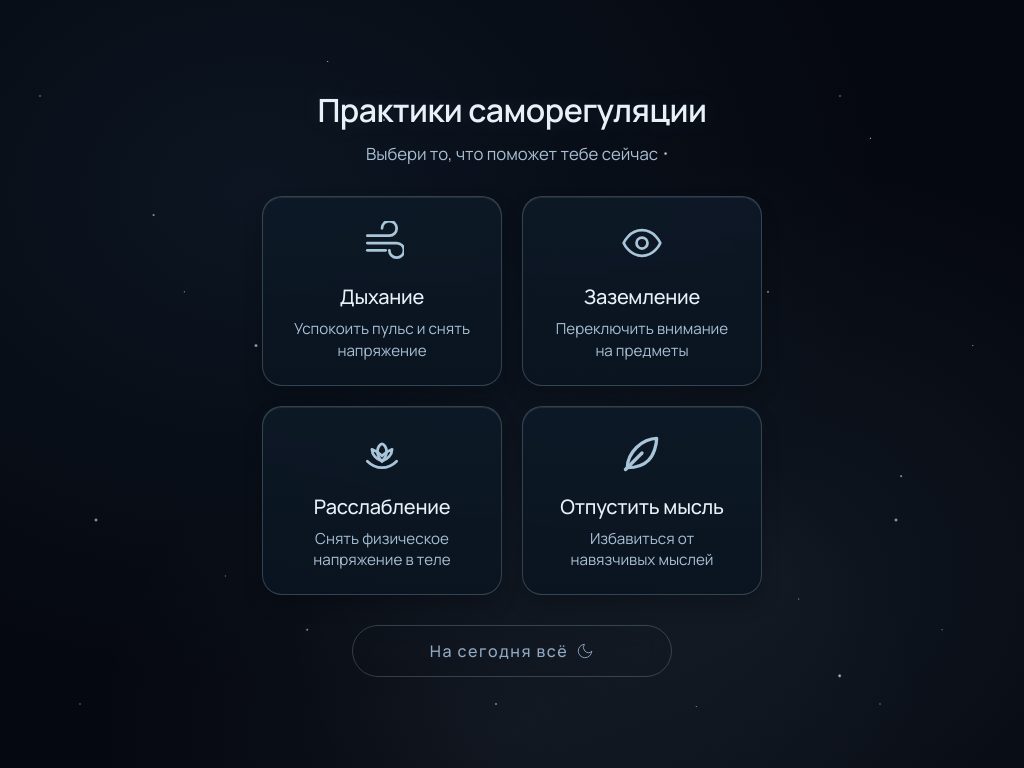
Scenario: App навигация › возвращает в меню по кнопке Назад
Click the heading "Дыхание" at (382, 297), box x1=340 y1=284 x2=424 y2=310
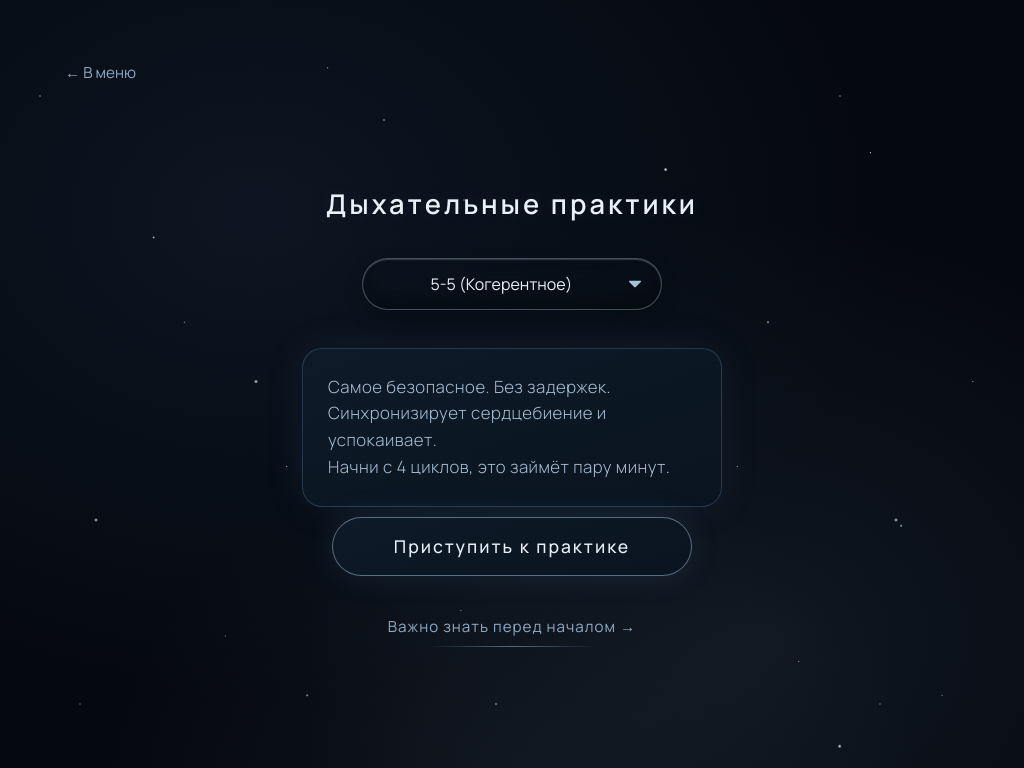
Click the button "← В меню" at (100, 72), box x1=48 y1=50 x2=153 y2=94
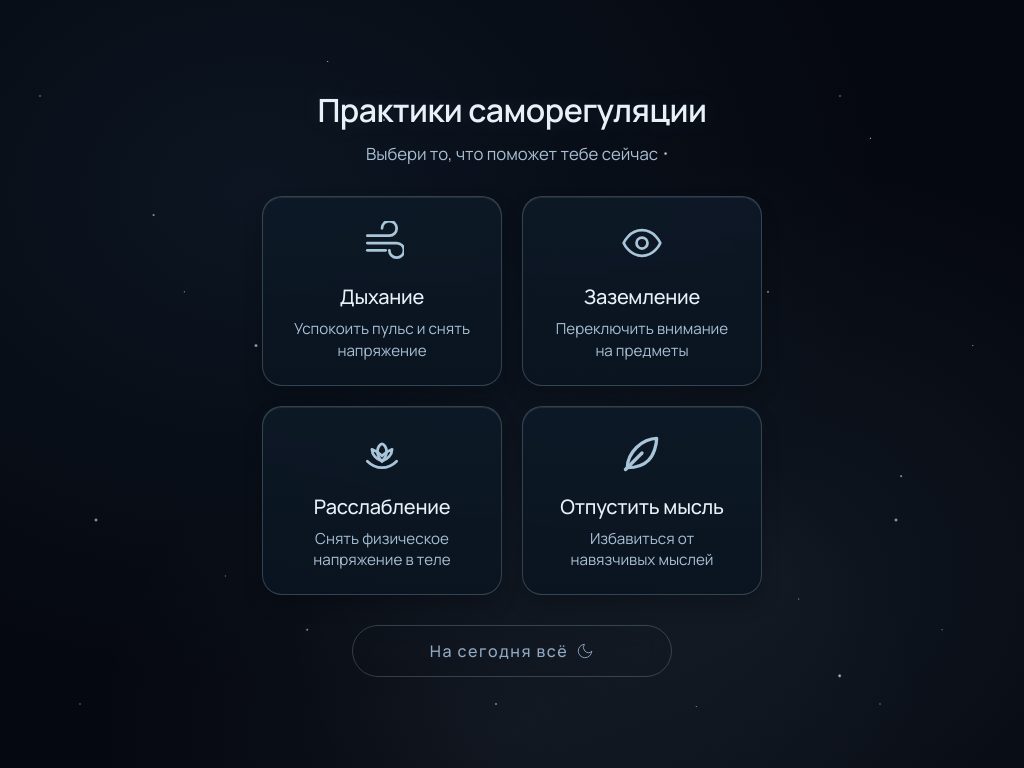
Expected: the heading "Практики саморегуляции" is shown, x1=318 y1=91 x2=706 y2=129
